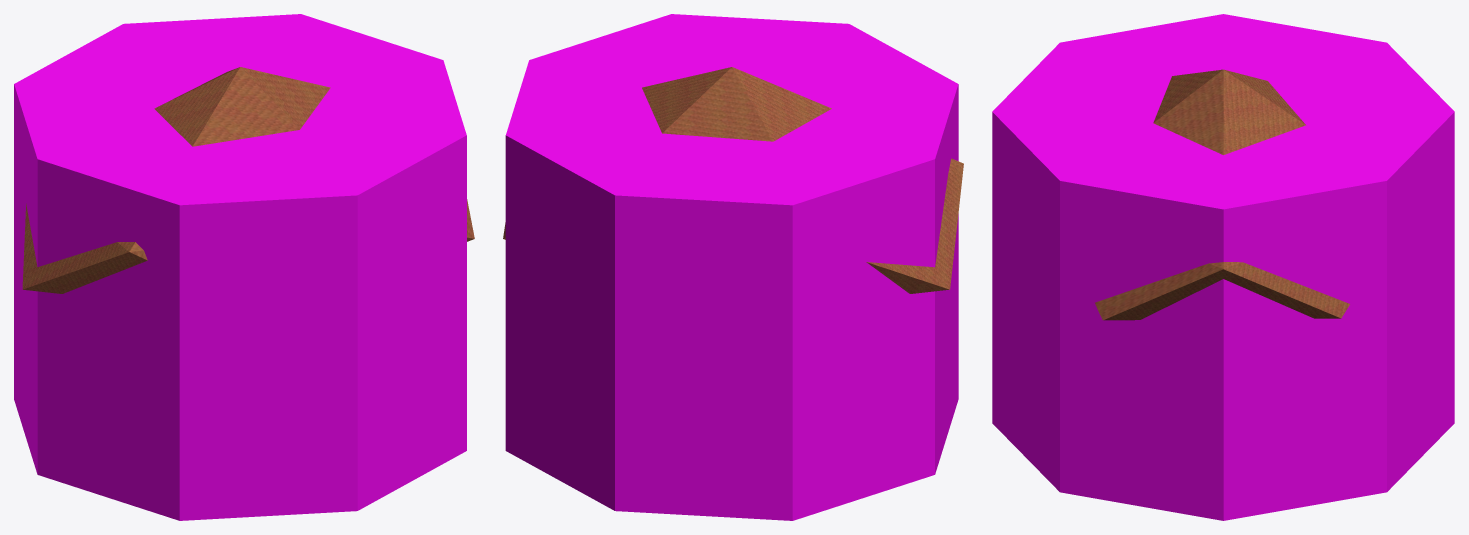
The model's file is rock_med_red_a.dae.
3 views of the same model, side by side, from view 1: azimuth 30°, elevation 25°; view 2: azimuth 150°, elevation 25°; view 3: azimuth 270°, elevation 25° (orthographic).
Visible parts, largest first — view 1: Colmesh_rock-1, rock_med_red_a_a800; view 2: Colmesh_rock-1, rock_med_red_a_a800; view 3: Colmesh_rock-1, rock_med_red_a_a800.
Part boxes in pixels (x1,y1,x2,y2): Colmesh_rock-1: (14,14,466,520); rock_med_red_a_a800: (22,67,474,293); Colmesh_rock-1: (505,14,958,520); rock_med_red_a_a800: (503,67,963,293); Colmesh_rock-1: (992,14,1454,520); rock_med_red_a_a800: (1095,69,1349,320).
Size of the model in its own units: 1.19 by 1.12 by 0.9493.
Materials: 2 (1 with a texture image).
